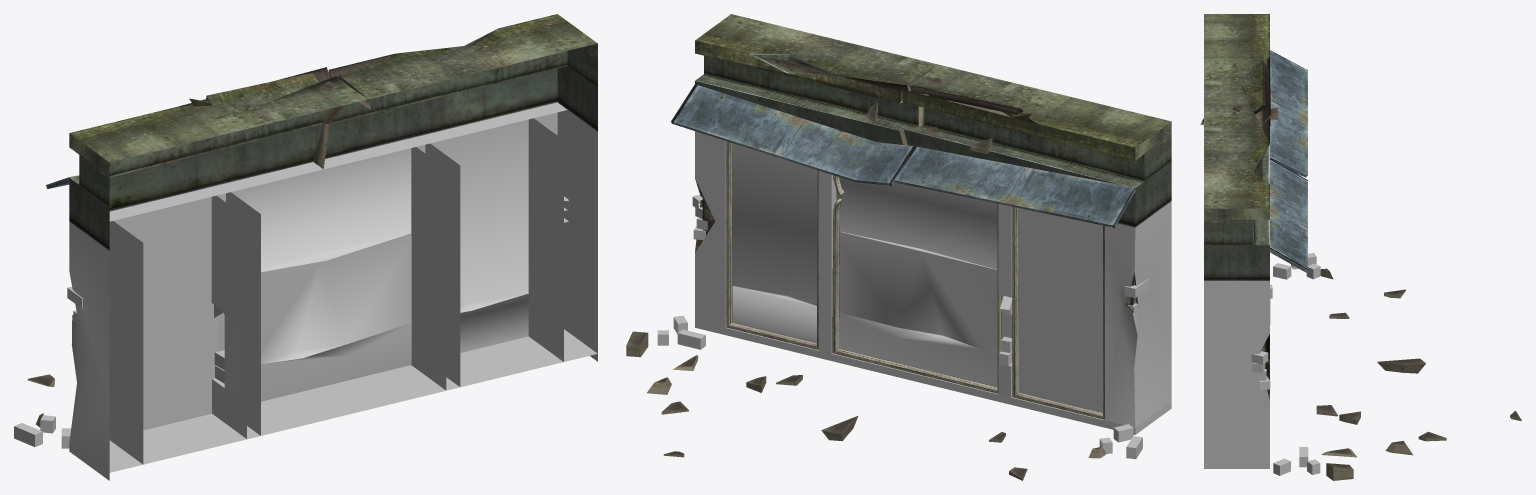
The model's file is Store_front_12_A.fbx.
3 views of the same model, side by side, from view 1: azimuth 30°, elevation 25°; view 2: azimuth 150°, elevation 25°; view 3: azimuth 270°, elevation 25° (orthographic). The views are drawn at different scales.
Parts seen in each view (by area): view 1: Store_front_12_A; view 2: Store_front_12_A; view 3: Store_front_12_A.
Part boxes in pixels (box(x1,y1,x2,y2)): Store_front_12_A: box(14, 14, 597, 480); Store_front_12_A: box(626, 14, 1171, 480); Store_front_12_A: box(1200, 14, 1521, 480).
Size of the model in its own units: 783 by 448 by 488.
